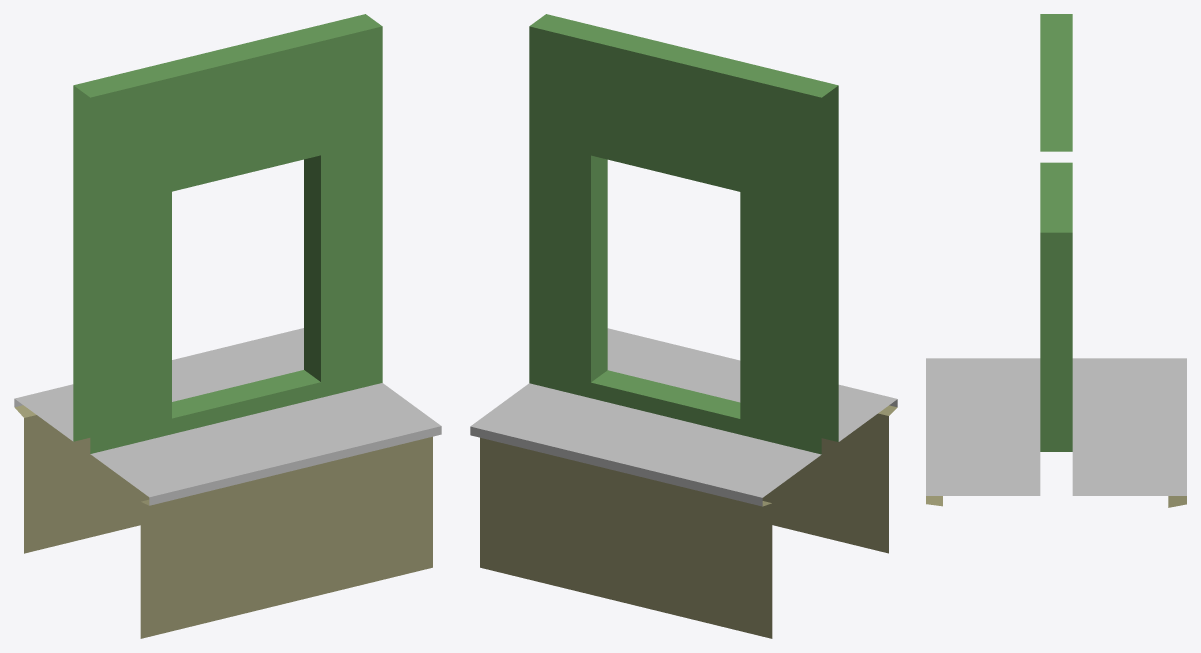
Rendered from SM_Window_Negotiation_200.FBX.
The picture shows the model from 3 angles, left to right: view 1: azimuth 30°, elevation 25°; view 2: azimuth 150°, elevation 25°; view 3: azimuth 270°, elevation 25°; orthographic projection. The views are drawn at different scales.
Parts seen in each view (by area): view 1: SM_Window_Negotiation_200; view 2: SM_Window_Negotiation_200; view 3: SM_Window_Negotiation_200.
Boxes of the visible parts, box(x1,y1,x2,y2) form: SM_Window_Negotiation_200: box(14, 14, 441, 638); SM_Window_Negotiation_200: box(470, 14, 897, 638); SM_Window_Negotiation_200: box(926, 14, 1186, 507).
Size of the model in its own units: 200 by 330 by 160.
Materials: 1 (1 with a texture image).
